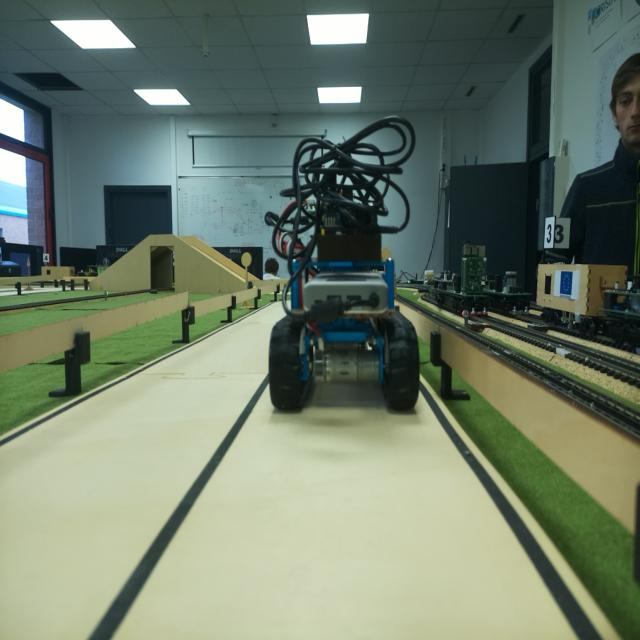obstacle_voiture: (256, 121, 432, 420)
